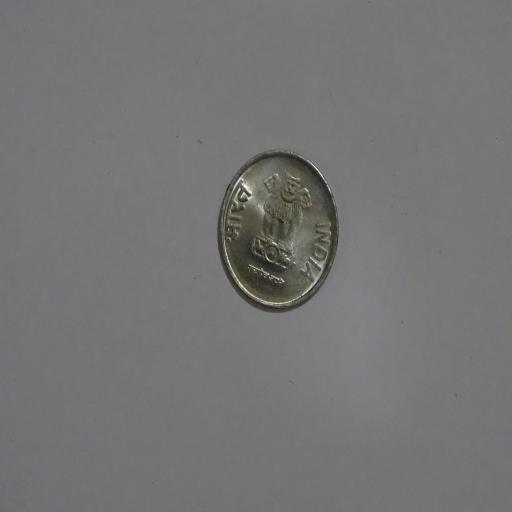rupee1: (214, 149, 339, 312)
